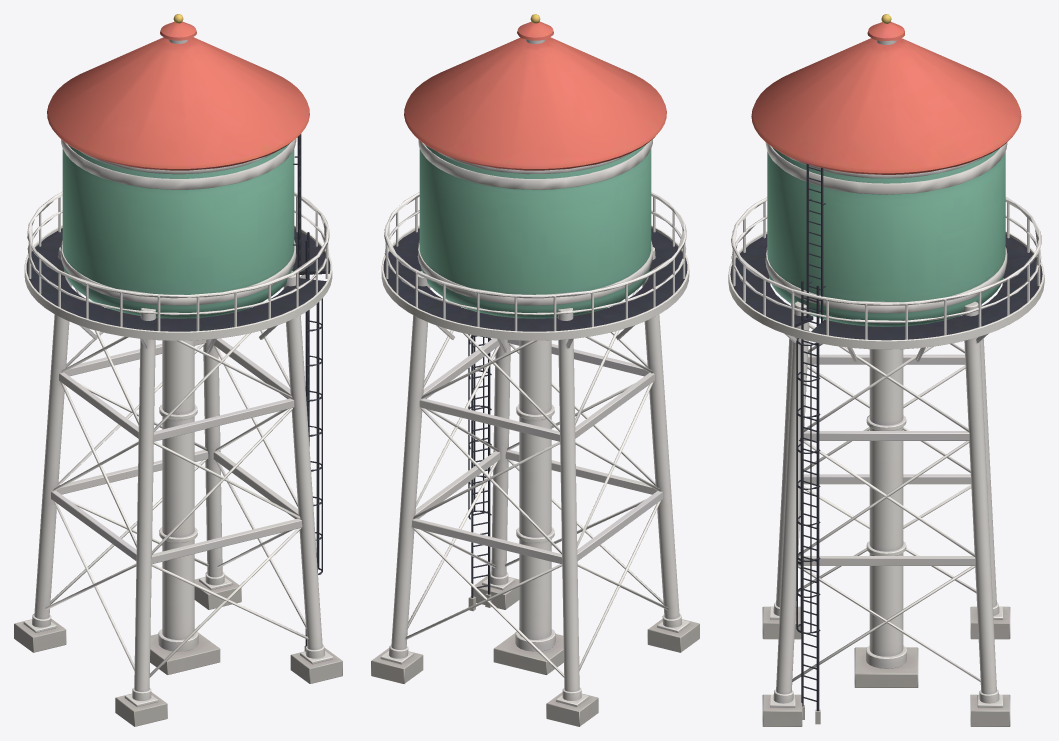
Rendered from arch_water_tower.glb.
3 renders of one model, left to right at view 1: azimuth 30°, elevation 25°; view 2: azimuth 150°, elevation 25°; view 3: azimuth 270°, elevation 25°, orthographic. The views are drawn at different scales.
Visible parts, largest first — view 1: water-tower_body, water-tower_railing; view 2: water-tower_body, water-tower_railing; view 3: water-tower_body, water-tower_railing.
Part boxes in pixels (left/top/right/bottom): water-tower_body: left=14, top=14, right=342, bottom=726; water-tower_railing: left=27, top=134, right=329, bottom=651; water-tower_body: left=371, top=14, right=699, bottom=726; water-tower_railing: left=384, top=192, right=686, bottom=611; water-tower_body: left=728, top=14, right=1044, bottom=726; water-tower_railing: left=731, top=164, right=1041, bottom=724.
Bounding box in the file's own units: 7.96 × 18.34 × 7.96.
2 materials, 2 textured.
